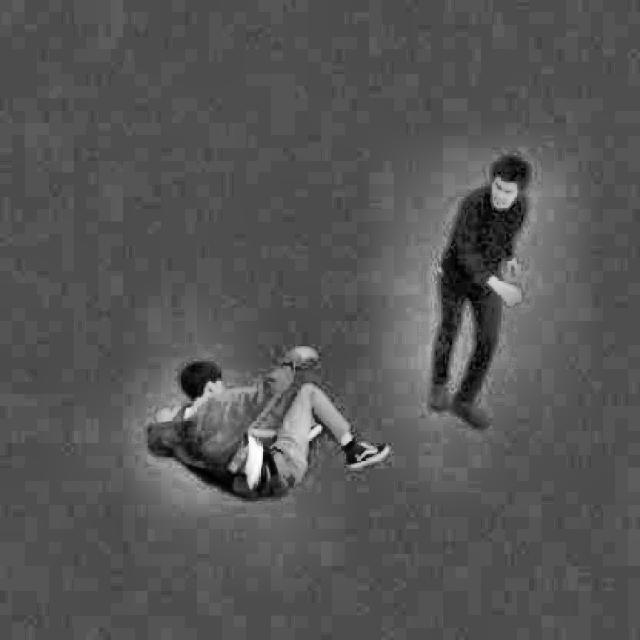robbery: (136, 143, 555, 512)
